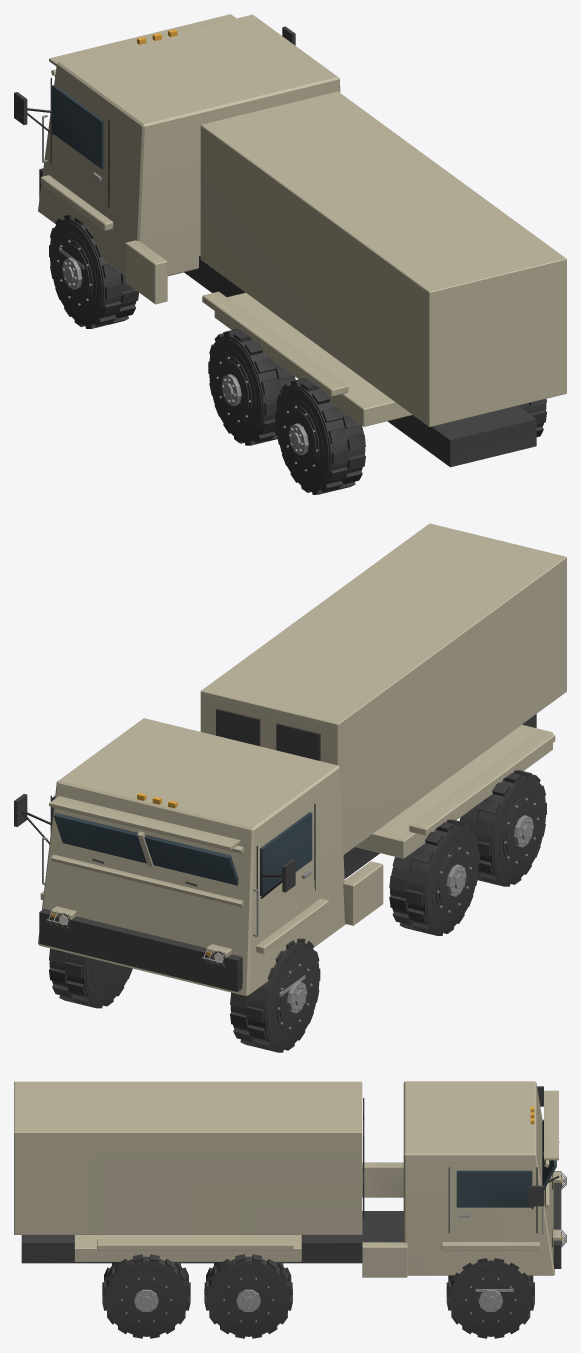
Rendered from usa_mlrs_typhon.glb.
3 renders of one model, top to bottom at view 1: azimuth 30°, elevation 25°; view 2: azimuth 150°, elevation 25°; view 3: azimuth 270°, elevation 25°, orthographic. The views are drawn at different scales.
Visible parts, largest first — view 1: barrel, body, wheel_4, wheel_2, wheel_0, turret; view 2: body, barrel, wheel_2, wheel_4, wheel_0, turret, wheel_1; view 3: barrel, body, wheel_3, wheel_5, wheel_1, turret.
Boxes of the visible parts, bbox=[...] form: barrel: bbox=[200, 91, 566, 426]; body: bbox=[14, 14, 536, 467]; wheel_4: bbox=[275, 378, 365, 494]; wheel_2: bbox=[208, 329, 295, 445]; wheel_0: bbox=[49, 215, 138, 328]; turret: bbox=[214, 292, 412, 426]; body: bbox=[14, 714, 555, 996]; barrel: bbox=[200, 523, 566, 854]; wheel_2: bbox=[389, 819, 479, 935]; wheel_4: bbox=[459, 770, 546, 886]; wheel_0: bbox=[230, 938, 320, 1052]; turret: bbox=[355, 724, 552, 858]; wheel_1: bbox=[49, 948, 132, 1008]; barrel: bbox=[14, 1081, 364, 1234]; body: bbox=[21, 1081, 566, 1291]; wheel_3: bbox=[204, 1254, 292, 1338]; wheel_5: bbox=[102, 1254, 190, 1338]; wheel_1: bbox=[446, 1258, 534, 1338]; turret: bbox=[74, 1235, 301, 1261].
Size of the model in its own units: 3.15 by 2.8 by 7.31.
